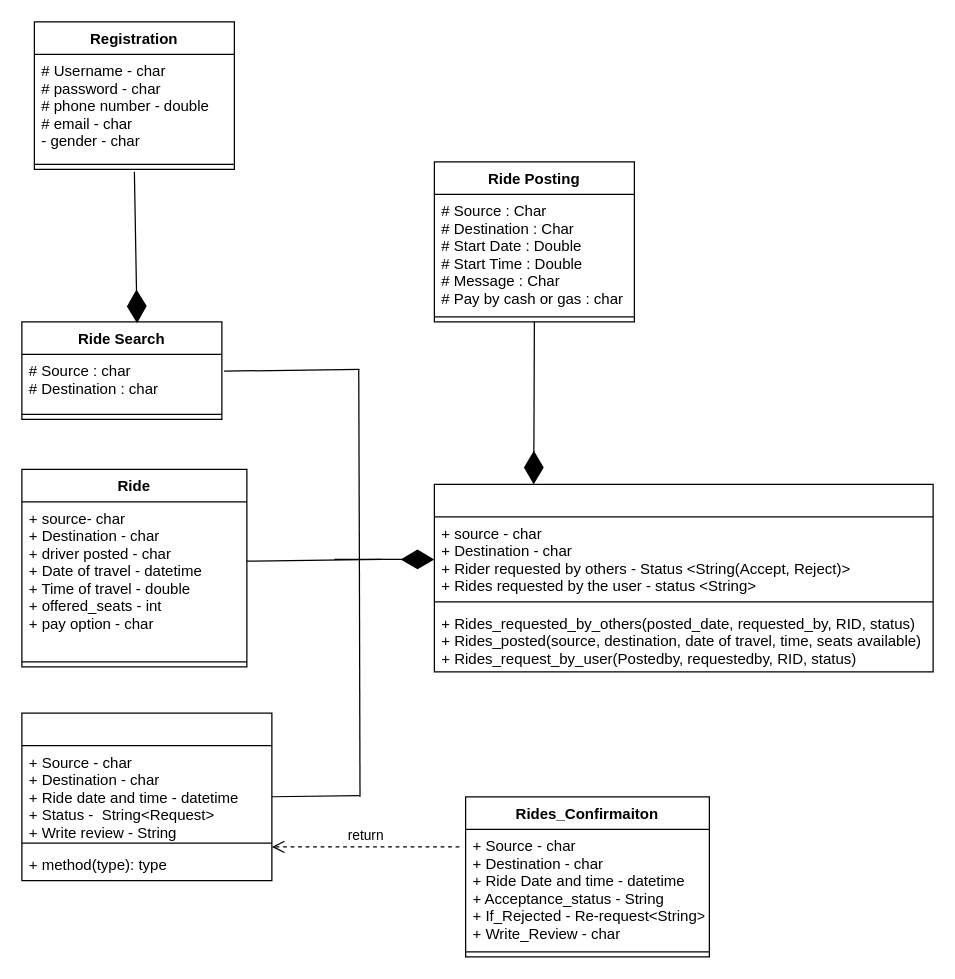
Some shapes in this 955 by 979 pixel diagram are drawn without their labels. The shapes that lost their labels are listed below. From the top down, each one's box as (x1, y1, x2, y2) in pixels, then its label:
(433, 483, 933, 672): User Dashboard
(21, 712, 272, 881): Ride_Request
